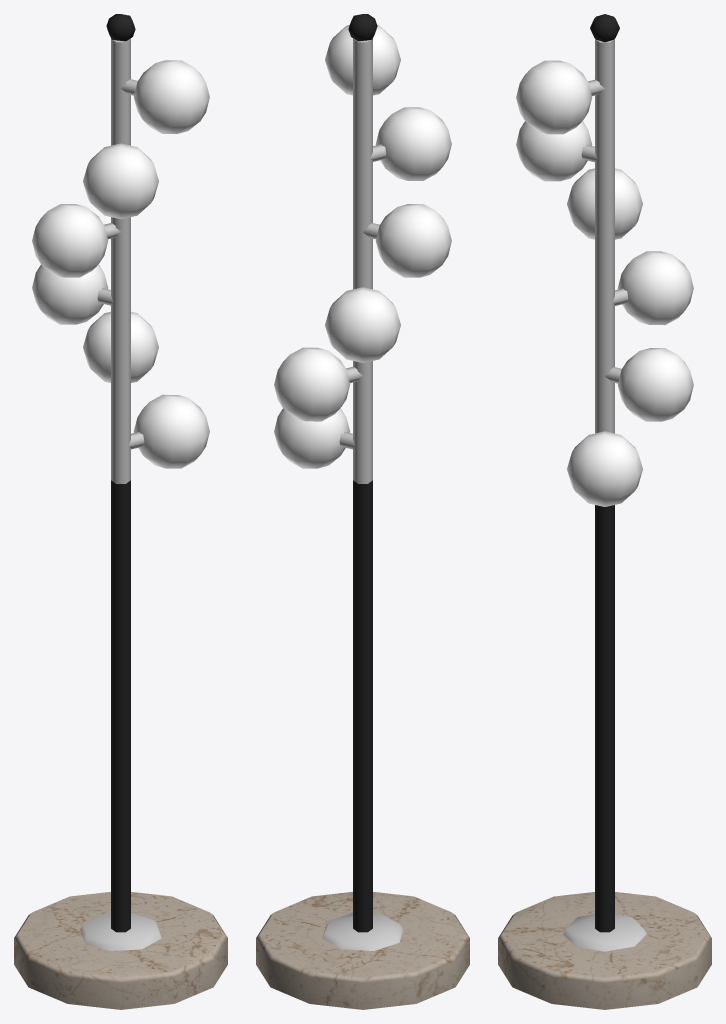
Rendered from lamp_011.fbx.
3 views of the same model, side by side, from view 1: azimuth 30°, elevation 25°; view 2: azimuth 150°, elevation 25°; view 3: azimuth 270°, elevation 25° (orthographic).
Parts seen in each view (by area): view 1: lamp_011; view 2: lamp_011; view 3: lamp_011.
Boxes of the visible parts, x1,y1,x2,y2 form: lamp_011: (14, 14, 227, 1009); lamp_011: (256, 14, 469, 1009); lamp_011: (498, 14, 711, 1009).
Bounding box in the file's own units: 45.08 × 45.08 × 221.
